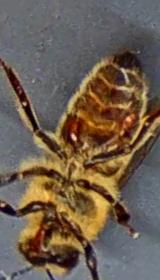varroa_mite: (62, 114, 94, 152), (114, 101, 145, 137)
